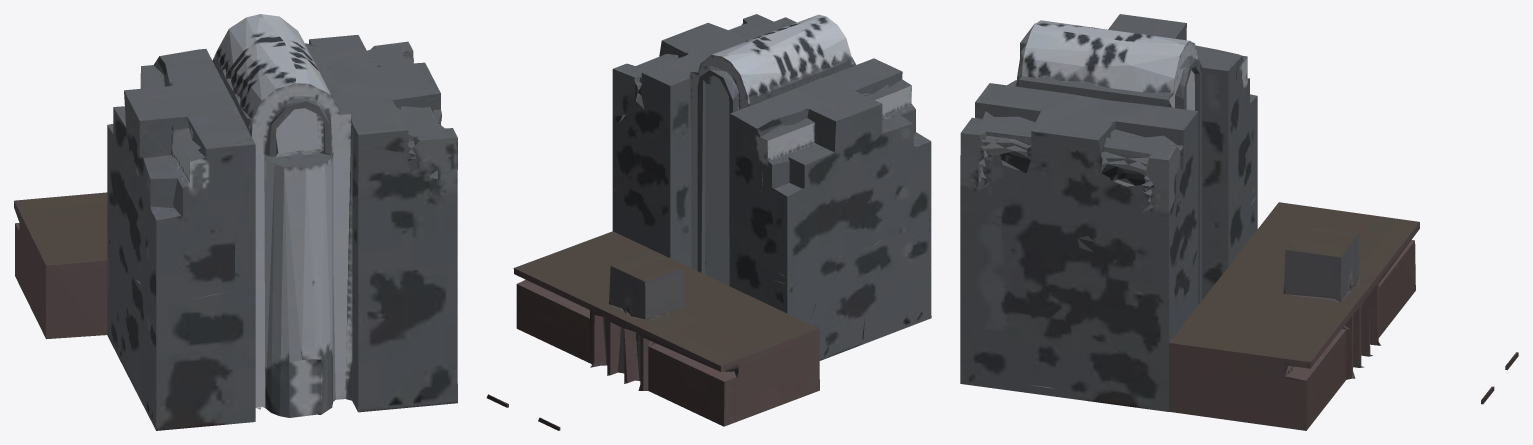
The model's file is t_-2_3.coat.glb.
The picture shows the model from 3 angles, left to right: view 1: azimuth 30°, elevation 25°; view 2: azimuth 150°, elevation 25°; view 3: azimuth 270°, elevation 25°; orthographic projection. The views are drawn at different scales.
Visible parts, largest first — view 1: far; view 2: far; view 3: far.
Part boxes in pixels (box(x1,y1,x2,y2)): far: box(14, 14, 457, 430); far: box(486, 14, 931, 430); far: box(960, 14, 1518, 430).
Size of the model in its own units: 88.99 by 76.35 by 127.
Materials: 1 (1 with a texture image).
